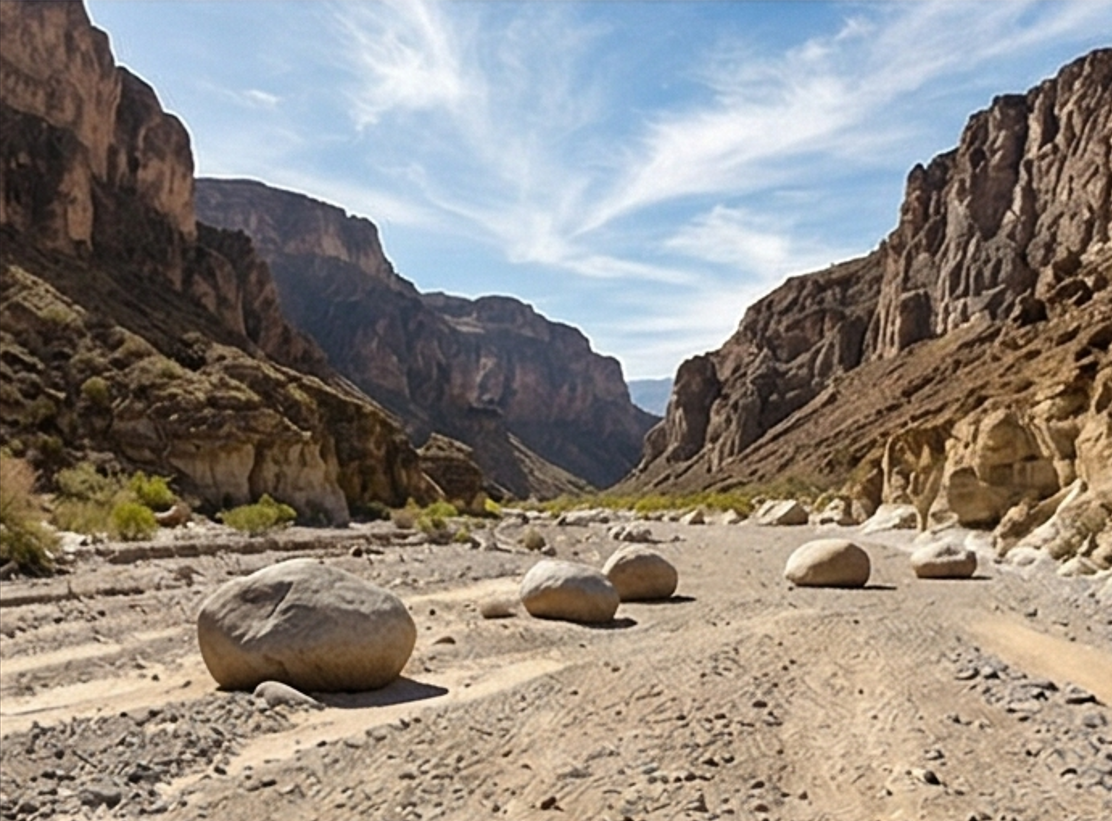rocks: (198, 560, 416, 691), (520, 546, 677, 623), (785, 539, 870, 587), (912, 546, 976, 578)
